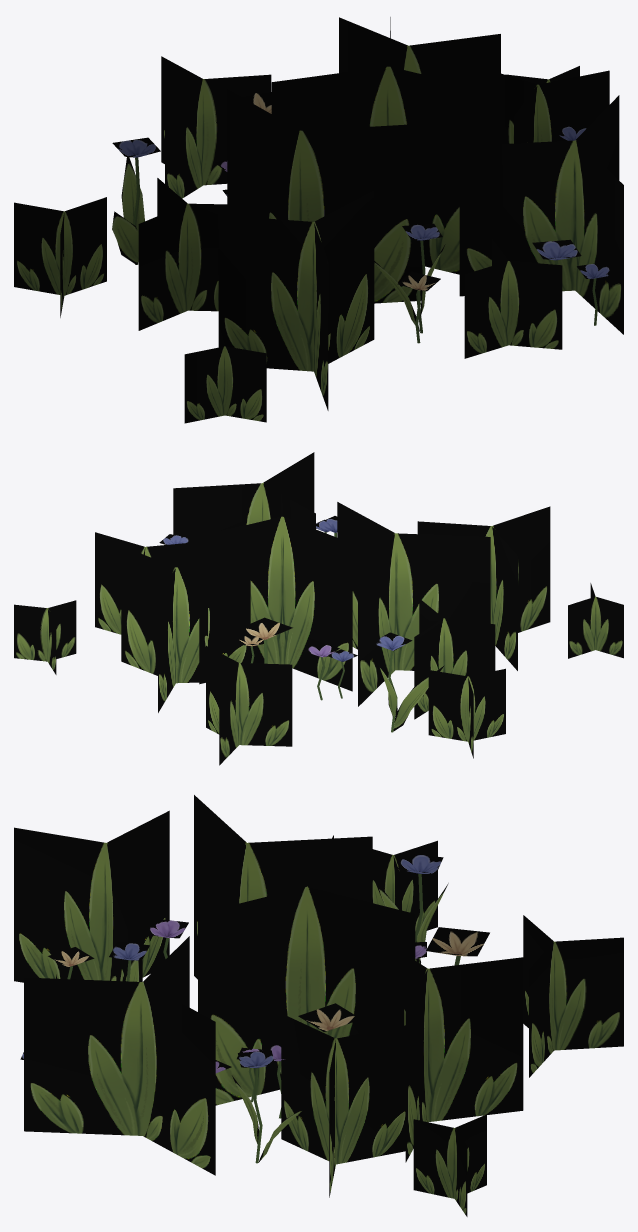
Rendered from SM_Grass_01.fbx.
3 views of the same model, one above another, from view 1: azimuth 30°, elevation 25°; view 2: azimuth 150°, elevation 25°; view 3: azimuth 270°, elevation 25° (orthographic). The views are drawn at different scales.
Parts seen in each view (by area): view 1: pPlane720; view 2: pPlane720; view 3: pPlane720.
Boxes of the visible parts, x1=… form: pPlane720: x1=14, y1=17, x2=623, y2=423; pPlane720: x1=14, y1=452, x2=623, y2=765; pPlane720: x1=14, y1=795, x2=623, y2=1216.
Bounding box in the file's own units: 259 × 79.85 × 225.
